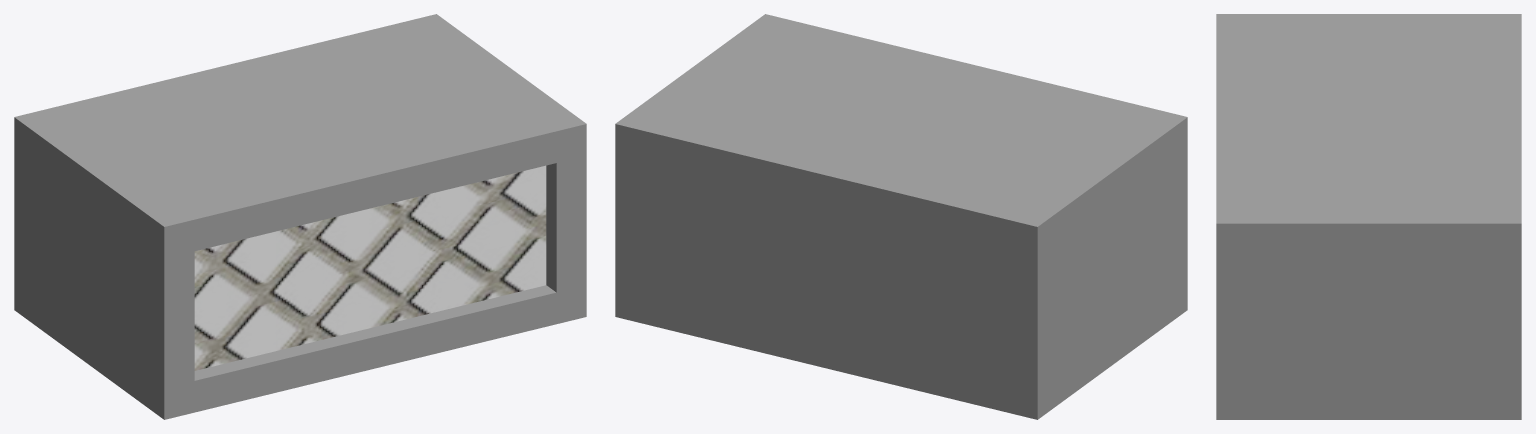
The model's file is Keyb Air Con Vent.fbx.
3 renders of one model, left to right at view 1: azimuth 30°, elevation 25°; view 2: azimuth 150°, elevation 25°; view 3: azimuth 270°, elevation 25°, orthographic.
Visible parts, largest first — view 1: pPlane22; view 2: pPlane22; view 3: pPlane22.
Part boxes in pixels (x1=…): pPlane22: x1=14, y1=14, x2=586, y2=419; pPlane22: x1=615, y1=14, x2=1187, y2=419; pPlane22: x1=1216, y1=14, x2=1521, y2=419.
Size of the model in its own units: 66.89 by 29.2 by 41.19.
